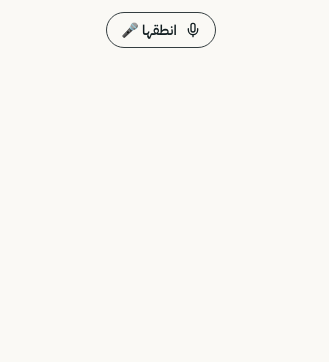
Test: showing the score › reports the overall score for a phrase, with its parts
Click the button "انطقها 🎤". click: (161, 30)
box: [106,12,216,48]
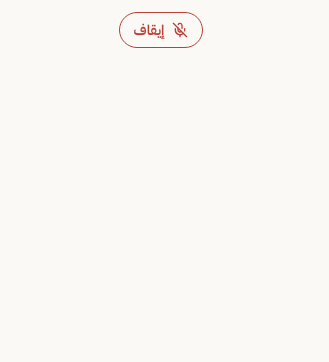
Click the button "إيقاف". click: (161, 30)
box: [119,12,203,48]
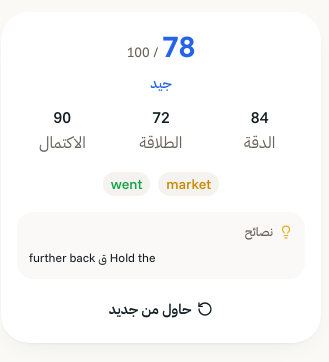
expect the text "78" is shown: met, box [162,27,195,65]
expect the text "الدقة" is shown: met, box [244,132,275,152]
expect the text "الطلاقة" is shown: met, box [140,132,182,152]
